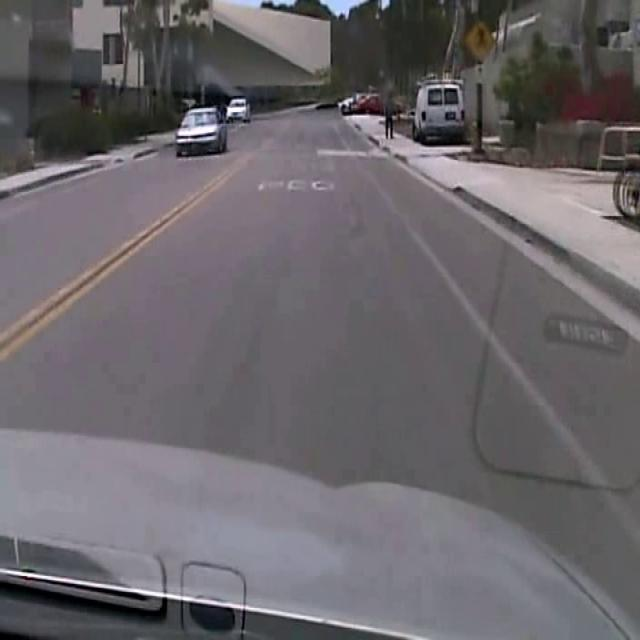pedestrianCrossing: (463, 17, 495, 63)
